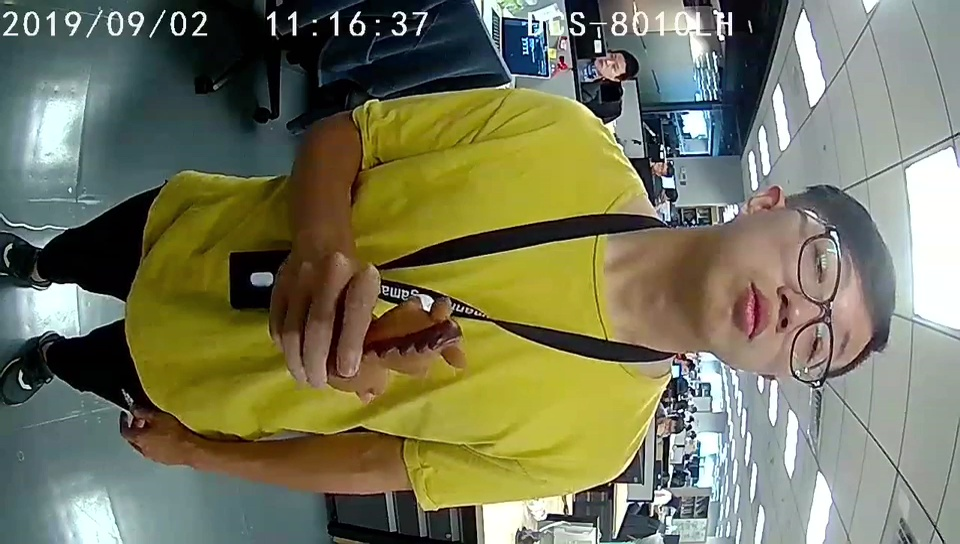horse: (371, 295, 465, 393)
